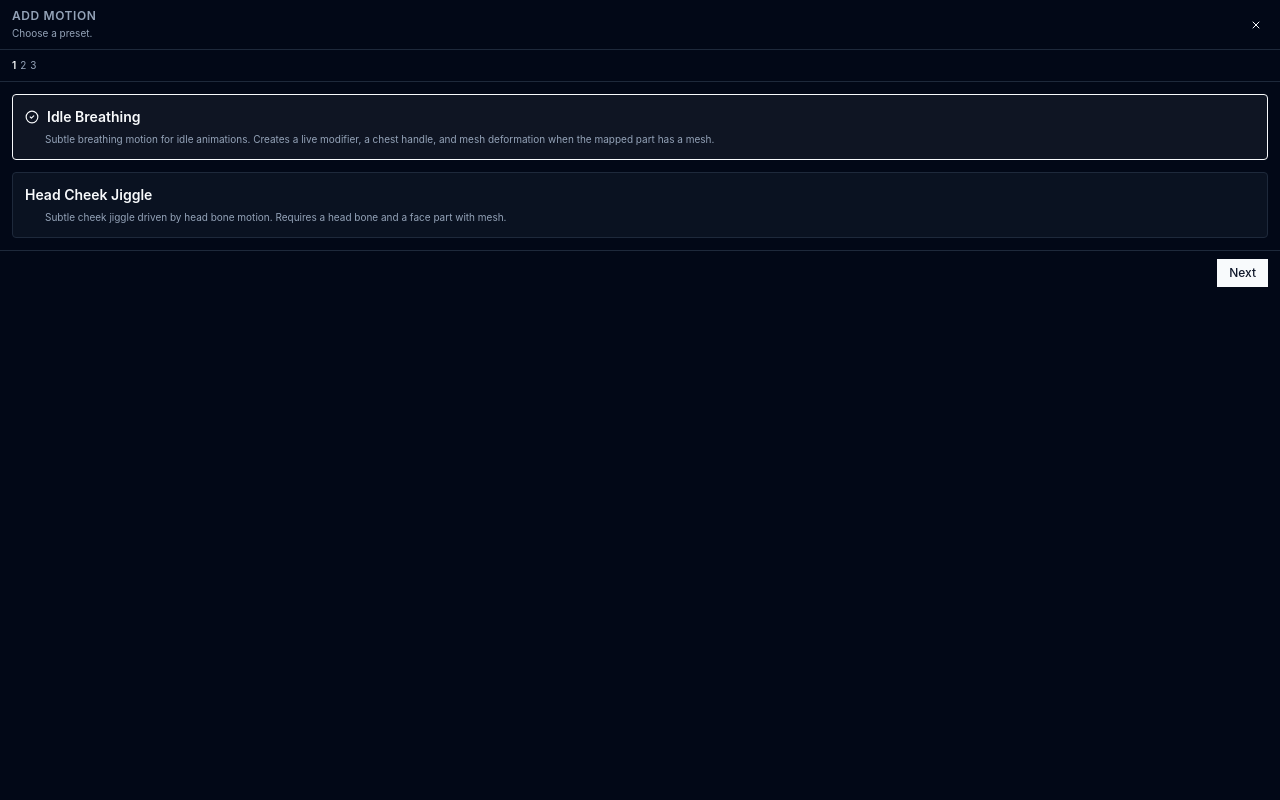
Test: AddMotionWizard › enables Next on mapRoles when chest is bound with mesh
Click the button "Next" at (1243, 273), box [1217,259,1268,287]
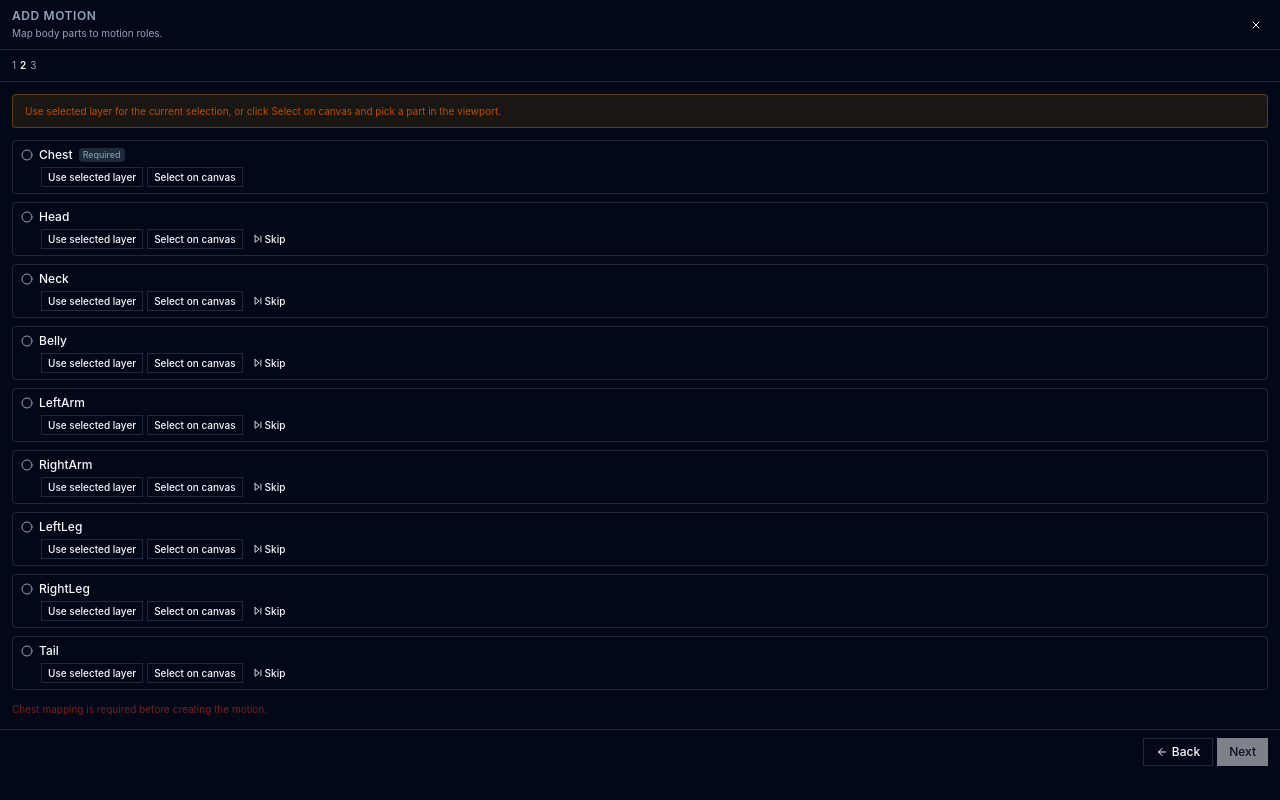
Click the 1st button "Use selected layer" at (92, 177), box [41,167,143,187]
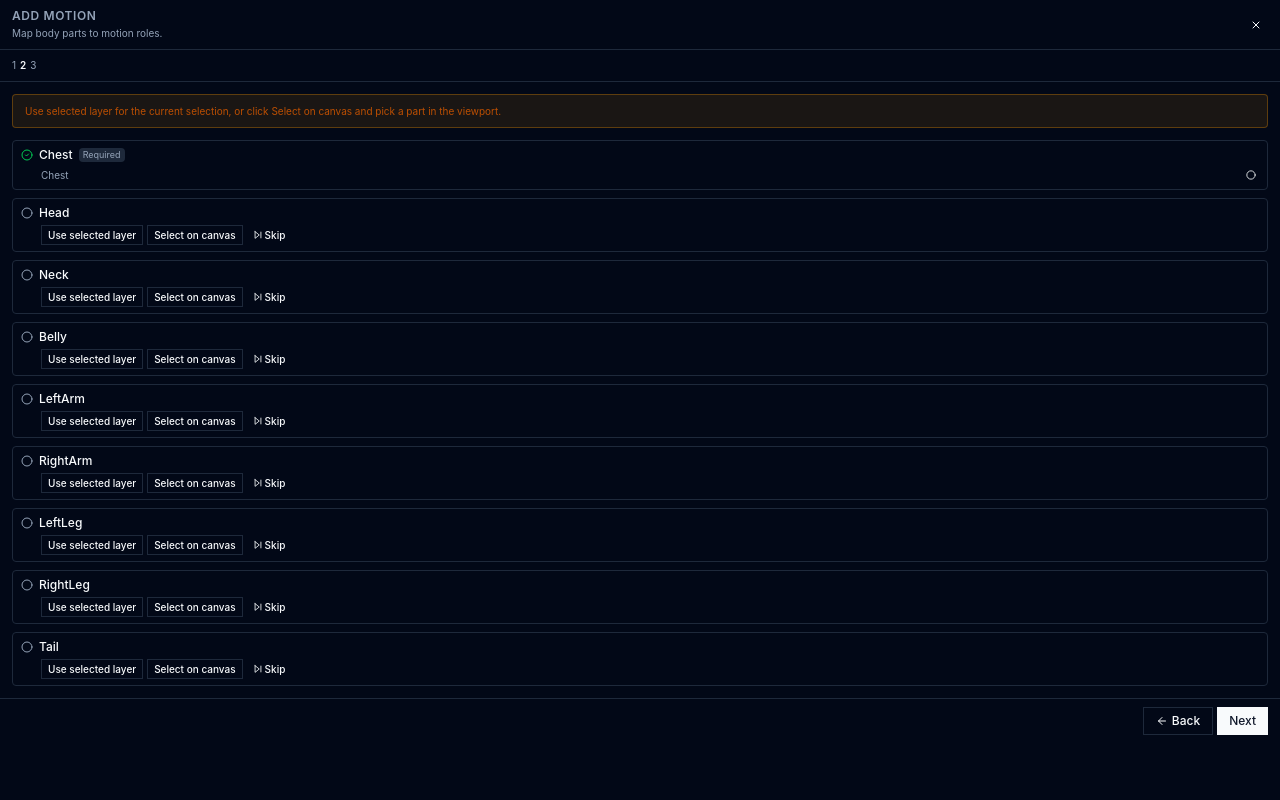
Expected: the text "chest" is shown, [39,147,73,163]
Now the button "Next" is enabled, box [1217,707,1268,735]
